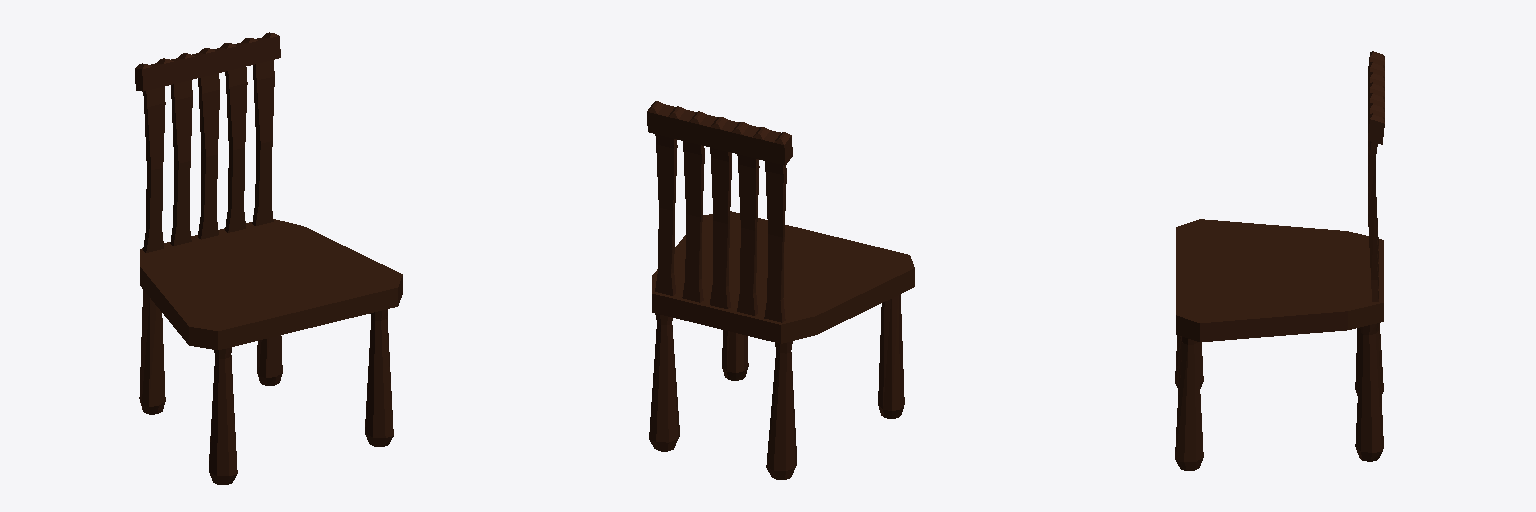
Rendered from ChairForSubstancePainter.obj.
3 views of the same model, side by side, from view 1: azimuth 30°, elevation 25°; view 2: azimuth 150°, elevation 25°; view 3: azimuth 270°, elevation 25° (orthographic).
Visible parts, largest first — view 1: ChairMesh; view 2: ChairMesh; view 3: ChairMesh.
Part boxes in pixels (x1,y1,x2,y2): ChairMesh: (135, 32, 402, 484); ChairMesh: (647, 101, 914, 479); ChairMesh: (1175, 51, 1384, 470).
Bounding box in the file's own units: 5.48 × 8.47 × 4.66.